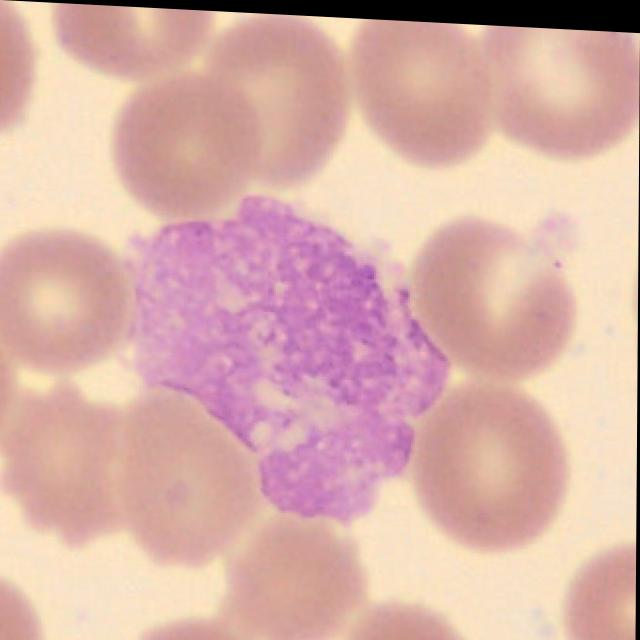Restos celulares: (133, 194, 452, 524)
